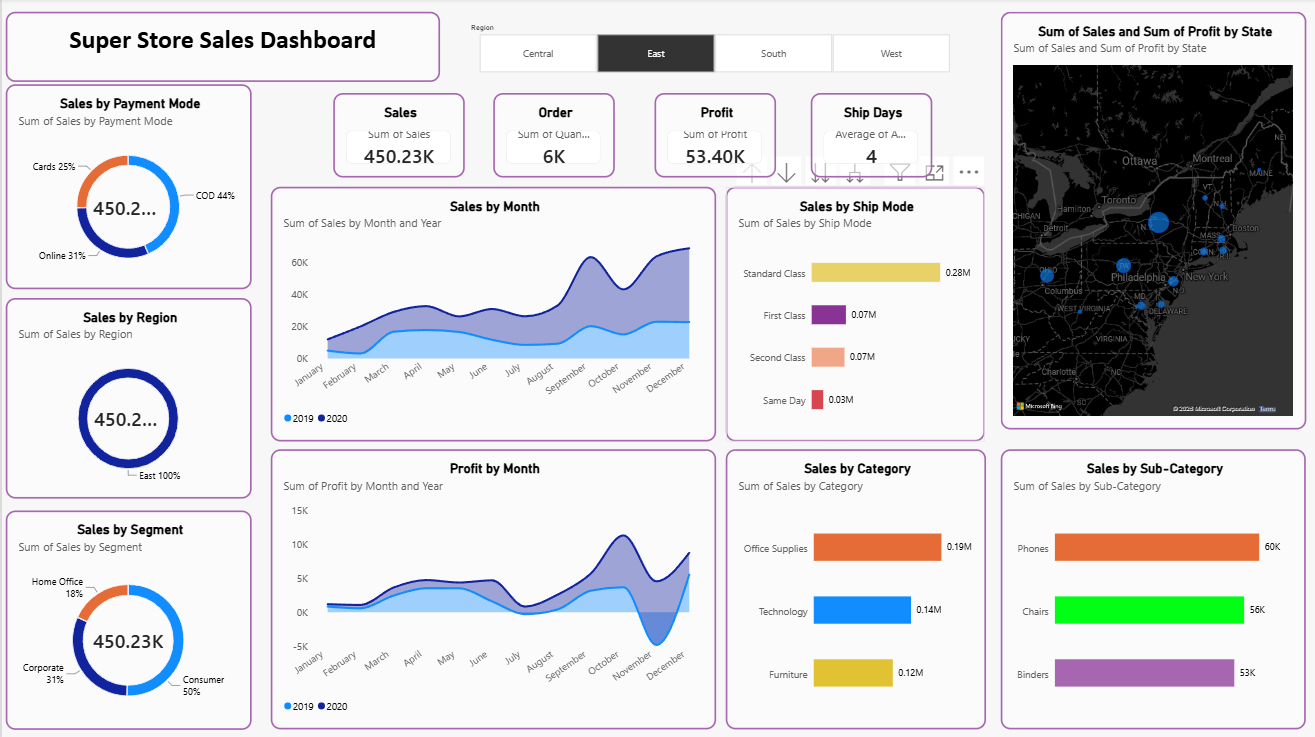

The dashboard page shown, as its layout file describes it:
{"tool":"powerbi","page":{"name":"Page 1","canvas":[1920,1080],"ordinal":0},"visuals":[{"type":"clusteredBarChart","title":"Sales by Category","fields":{"Category":["Sheet1.Category"],"Y":["Sum(Sheet1.Sales)"]},"box":[1048,654,376.7,405.4],"z":0},{"type":"clusteredBarChart","title":"Sales by Ship Mode","fields":{"Category":["Sheet1.Ship Mode","Sheet1.Category"],"Y":["Sum(Sheet1.Sales)"]},"box":[1048,273.5,374.8,369.1],"z":1000},{"type":"clusteredBarChart","title":"Sales by Sub-Category","fields":{"Category":["Sheet1.Sub-Category"],"Y":["Sum(Sheet1.Sales)"]},"box":[1445.7,654,441.8,405.4],"z":2000},{"type":"stackedAreaChart","title":"Sales by Month","fields":{"Y":["Sum(Sheet1.Sales)"],"Category":["Sheet1.Order Date.Variation.Date Hierarchy.Month","Sheet1.Order Date.Variation.Date Hierarchy.Day"],"Series":["Sheet1.Order Date.Variation.Date Hierarchy.Year"]},"box":[388.2,273.5,644.5,369.1],"z":3000},{"type":"stackedAreaChart","title":"Profit by Month","fields":{"Category":["Sheet1.Order Date.Variation.Date Hierarchy.Month","Sheet1.Order Date.Variation.Date Hierarchy.Day"],"Series":["Sheet1.Order Date.Variation.Date Hierarchy.Year"],"Y":["Sum(Sheet1.Profit)"]},"box":[388.2,654,644.5,405.4],"z":4000},{"type":"map","title":"Sum of Sales and Sum of Profit by State","fields":{"Category":["Sheet1.State"],"Size":["Sum(Sheet1.Sales)"]},"box":[1445.7,20.5,442.6,604.9],"z":5000},{"type":"donutChart","title":" Sales by Segment","fields":{"Category":["Sheet1.Segment"],"Y":["Sum(Sheet1.Sales)"]},"box":[5.7,742,355.7,317.5],"z":6000},{"type":"donutChart","title":" Sales by Payment Mode","fields":{"Category":["Sheet1.Payment Mode"],"Y":["Sum(Sheet1.Sales)"]},"box":[5.7,124.3,355.7,296.4],"z":7000},{"type":"slicer","fields":{"Values":["Sheet1.Region"]},"box":[655.9,21,751.6,103.3],"z":8000},{"type":"textbox","box":[5.4,19.9,629.2,101.4],"z":9000},{"type":"cardVisual","title":"Sales","fields":{"Data":["Sum(Sheet1.Sales)"]},"box":[480,137.7,190,122.4],"z":10000},{"type":"cardVisual","title":"Ship Days","fields":{"Data":["Avg(Sheet1.AvgDelivery)"]},"box":[1170.4,137.7,175.9,122.4],"z":11000},{"type":"cardVisual","title":"Profit","fields":{"Data":["Sum(Sheet1.Profit)"]},"box":[944.7,137.7,175.9,122.4],"z":12000},{"type":"cardVisual","title":"Order","fields":{"Data":["Sum(Sheet1.Quantity)"]},"box":[711.4,137.7,175.9,122.4],"z":13000},{"type":"donutChart","title":"Sales by Region","fields":{"Y":["Sum(Sheet1.Sales)"],"Category":["Sheet1.Region"]},"box":[5.7,434.1,355.7,290.7],"z":14000}]}

Visuals, with their boxes in screenshot pixels (x1, y1, x2, y2), scaled from the page's 1920x1080 canvas onto the 1315x737 screenshot:
"Sales by Category" clusteredBarChart: Rect(718, 446, 976, 723)
"Sales by Ship Mode" clusteredBarChart: Rect(718, 187, 974, 439)
"Sales by Sub-Category" clusteredBarChart: Rect(990, 446, 1293, 723)
"Sales by Month" stackedAreaChart: Rect(266, 187, 707, 439)
"Profit by Month" stackedAreaChart: Rect(266, 446, 707, 723)
"Sum of Sales and Sum of Profit by State" map: Rect(990, 14, 1293, 427)
" Sales by Segment" donutChart: Rect(4, 506, 248, 723)
" Sales by Payment Mode" donutChart: Rect(4, 85, 248, 287)
slicer - Sheet1.Region: Rect(449, 14, 964, 85)
textbox: Rect(4, 14, 435, 83)
"Sales" cardVisual: Rect(329, 94, 459, 177)
"Ship Days" cardVisual: Rect(802, 94, 922, 177)
"Profit" cardVisual: Rect(647, 94, 767, 177)
"Order" cardVisual: Rect(487, 94, 608, 177)
"Sales by Region" donutChart: Rect(4, 296, 248, 495)
